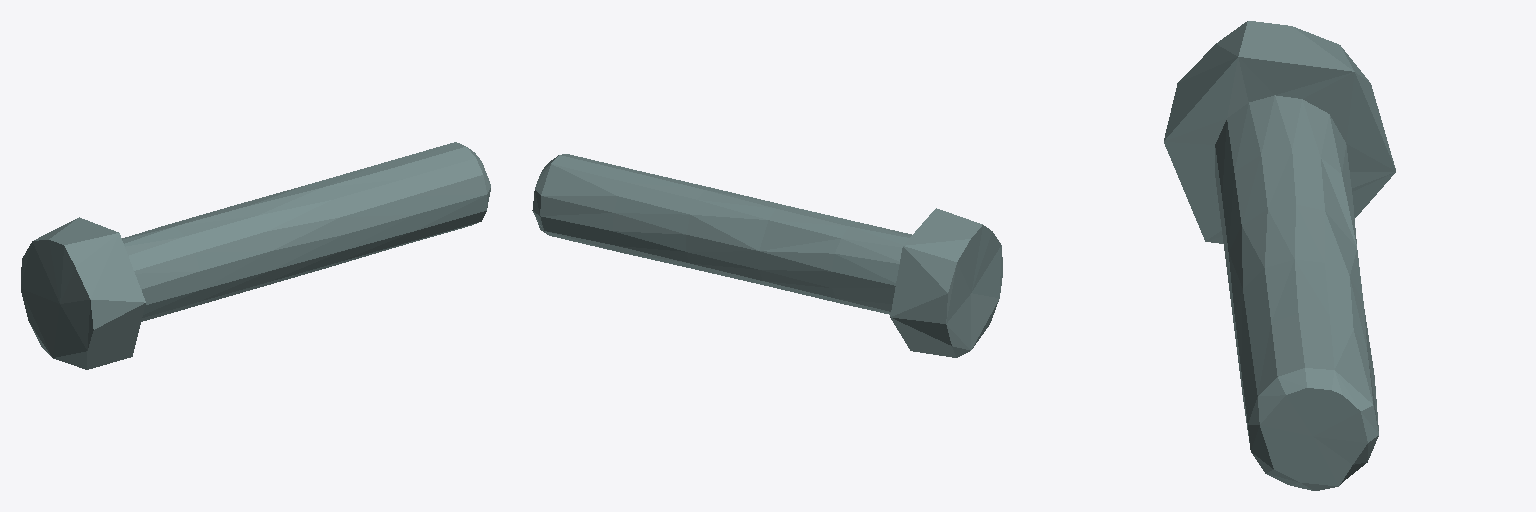
The robot description file, URDF, robot "bolt_2":
<?xml version="1.0" ?>
<robot name="bolt_2">
  <link name="bolt_2_base_link">
    <contact>
      <lateral_friction value="1.0"/>
      <rolling_friction value="0.001"/>
    </contact>
    <inertial>
      <origin rpy="0 0 0" xyz="0 0 0"/>
       <mass value=".02"/>
       <inertia ixx="1" ixy="0" ixz="0" iyy="1" iyz="0" izz="1"/>
    </inertial>
    <visual>
      <origin rpy="0 0 0" xyz="0 0 0"/>
      <geometry>
        <mesh filename="bolt_render.obj" scale=".0002 .0002 .0002"/>
      </geometry>
       <material name="yellow">
        <color rgba=".5 .58 0.58 1"/>
      </material>
    </visual>
    <collision>
      <origin rpy="0 0 0" xyz="0 0 0"/>
      <geometry>
        <mesh filename="bolt_render.obj" scale=".0002 .0002 .0002"/>
      </geometry>
    </collision>
  </link>
</robot>

--- Render facts (derived) ---
Views: 3 orthographic renders of the robot side by side, from view 1: azimuth 30°, elevation 25°; view 2: azimuth 150°, elevation 25°; view 3: azimuth 270°, elevation 25°.
Model bolt_2 with 1 links and 0 joints (none), rooted at bolt_2_base_link, posed every joint at zero.
Links seen in each view (by area): view 1: bolt_2_base_link; view 2: bolt_2_base_link; view 3: bolt_2_base_link.
Link boxes in pixels (x1,y1,x2,y2): bolt_2_base_link: (21,142,490,369); bolt_2_base_link: (532,154,1002,357); bolt_2_base_link: (1164,21,1395,490).
Bounding box of the posed robot: 0.0814 × 0.0242 × 0.023 m (x, y, z).
Meshes: 1 distinct files referenced, 1 mesh visuals loaded (1 OBJ).